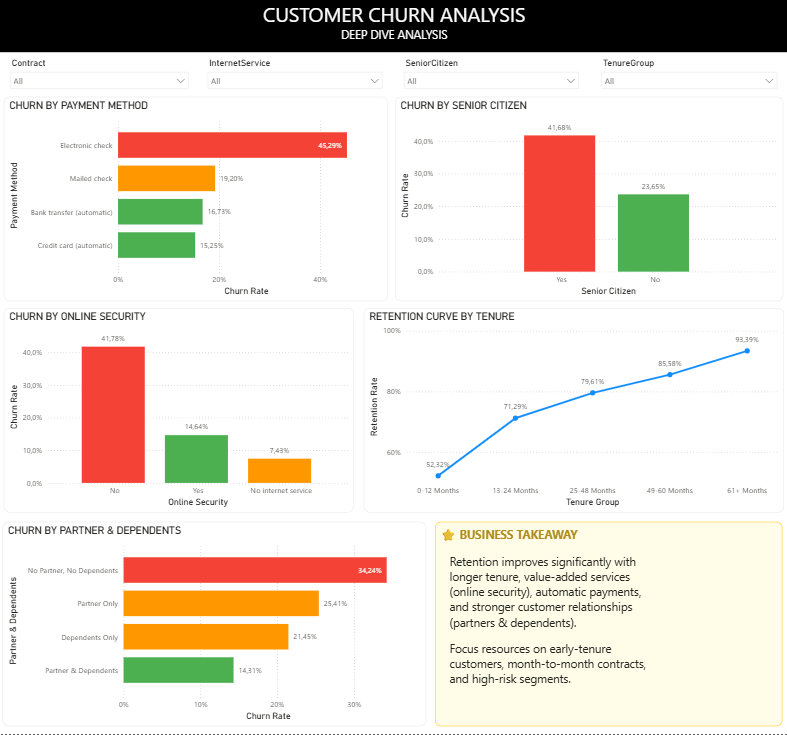

The page's visual inventory and layout, read from the dashboard file:
{"tool":"powerbi","page":{"name":"Deep Dive Analysis","canvas":[1280,1195],"ordinal":1},"visuals":[{"type":"textbox","box":[0,0,1280,88],"z":0},{"type":"slicer","fields":{"Values":["telco_churn_cleaned.Contract"]},"box":[6,92,310,66],"z":1},{"type":"slicer","fields":{"Values":["telco_churn_cleaned.InternetService"]},"box":[326.5,91.7,304.5,67.3],"z":2},{"type":"slicer","fields":{"Values":["telco_churn_cleaned.SeniorCitizen"]},"box":[644.4,91.7,304.5,67.3],"z":3},{"type":"slicer","fields":{"Values":["telco_churn_cleaned.TenureGroup"]},"box":[966,91.7,305.7,67.3],"z":4},{"type":"clusteredBarChart","title":"CHURN BY PAYMENT METHOD","fields":{"Category":["telco_churn_cleaned.PaymentMethod"],"Y":["telco_churn_cleaned.Churn Rate"]},"box":[6,160,624,332],"z":5},{"type":"clusteredColumnChart","title":"CHURN BY SENIOR CITIZEN","fields":{"Category":["telco_churn_cleaned.SeniorCitizen"],"Y":["telco_churn_cleaned.Churn Rate"]},"box":[642,160,630,332],"z":6},{"type":"clusteredColumnChart","title":"CHURN BY ONLINE SECURITY","fields":{"Y":["telco_churn_cleaned.Churn Rate"],"Category":["telco_churn_cleaned.OnlineSecurity"]},"box":[6,504,568,332],"z":7},{"type":"lineChart","title":"RETENTION CURVE BY TENURE","fields":{"Category":["telco_churn_cleaned.TenureGroup"],"Y":["telco_churn_cleaned.Retention Rate"]},"box":[590,504,682,332],"z":8},{"type":"clusteredBarChart","title":"CHURN BY PARTNER & DEPENDENTS","fields":{"Y":["telco_churn_cleaned.Churn Rate"],"Category":["telco_churn_cleaned.Partner & Dependents"]},"box":[4.4,850.8,688,332],"z":9},{"type":"textbox","box":[706.4,850.8,564,332],"z":10}]}

Visuals, with their boxes in screenshot pixels (x1, y1, x2, y2), scaled from the page's 1280x1195 canvas onto the 787x735 screenshot:
textbox: x1=0 y1=0 x2=786 y2=54
slicer - telco_churn_cleaned.Contract: x1=4 y1=57 x2=194 y2=97
slicer - telco_churn_cleaned.InternetService: x1=201 y1=56 x2=388 y2=98
slicer - telco_churn_cleaned.SeniorCitizen: x1=396 y1=56 x2=583 y2=98
slicer - telco_churn_cleaned.TenureGroup: x1=594 y1=56 x2=782 y2=98
"CHURN BY PAYMENT METHOD" clusteredBarChart: x1=4 y1=98 x2=387 y2=303
"CHURN BY SENIOR CITIZEN" clusteredColumnChart: x1=395 y1=98 x2=782 y2=303
"CHURN BY ONLINE SECURITY" clusteredColumnChart: x1=4 y1=310 x2=353 y2=514
"RETENTION CURVE BY TENURE" lineChart: x1=363 y1=310 x2=782 y2=514
"CHURN BY PARTNER & DEPENDENTS" clusteredBarChart: x1=3 y1=523 x2=426 y2=727
textbox: x1=434 y1=523 x2=781 y2=727
